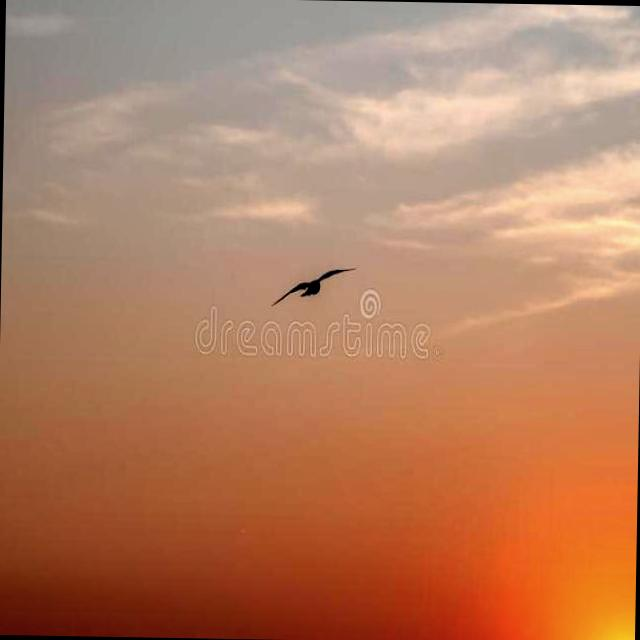bird: (270, 260, 354, 314)
